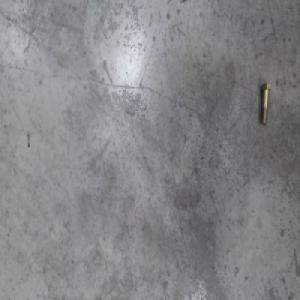Bolt: (257, 81, 270, 124)
